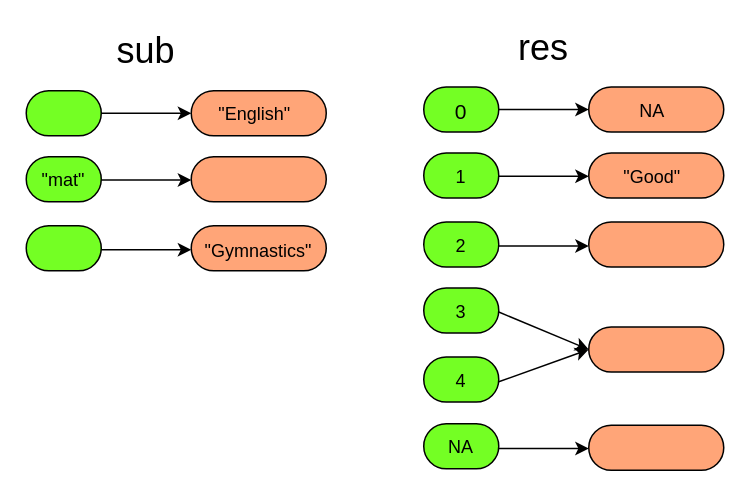
Image size: 750x497. Some labels were removed from this diagram. The centre of each missing label's shape, as x and y in pixels:
"eng": the point at 63,112
"gym": the point at 63,247
"Mathematics": the point at 258,178
"Missed": the point at 655,447
"Not Passed": the point at 655,349
"Passed": the point at 655,243
